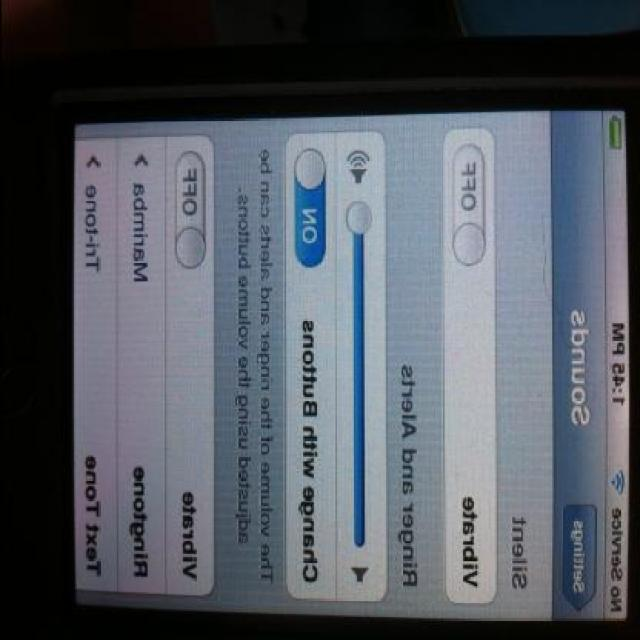phone: (29, 49, 640, 640)
